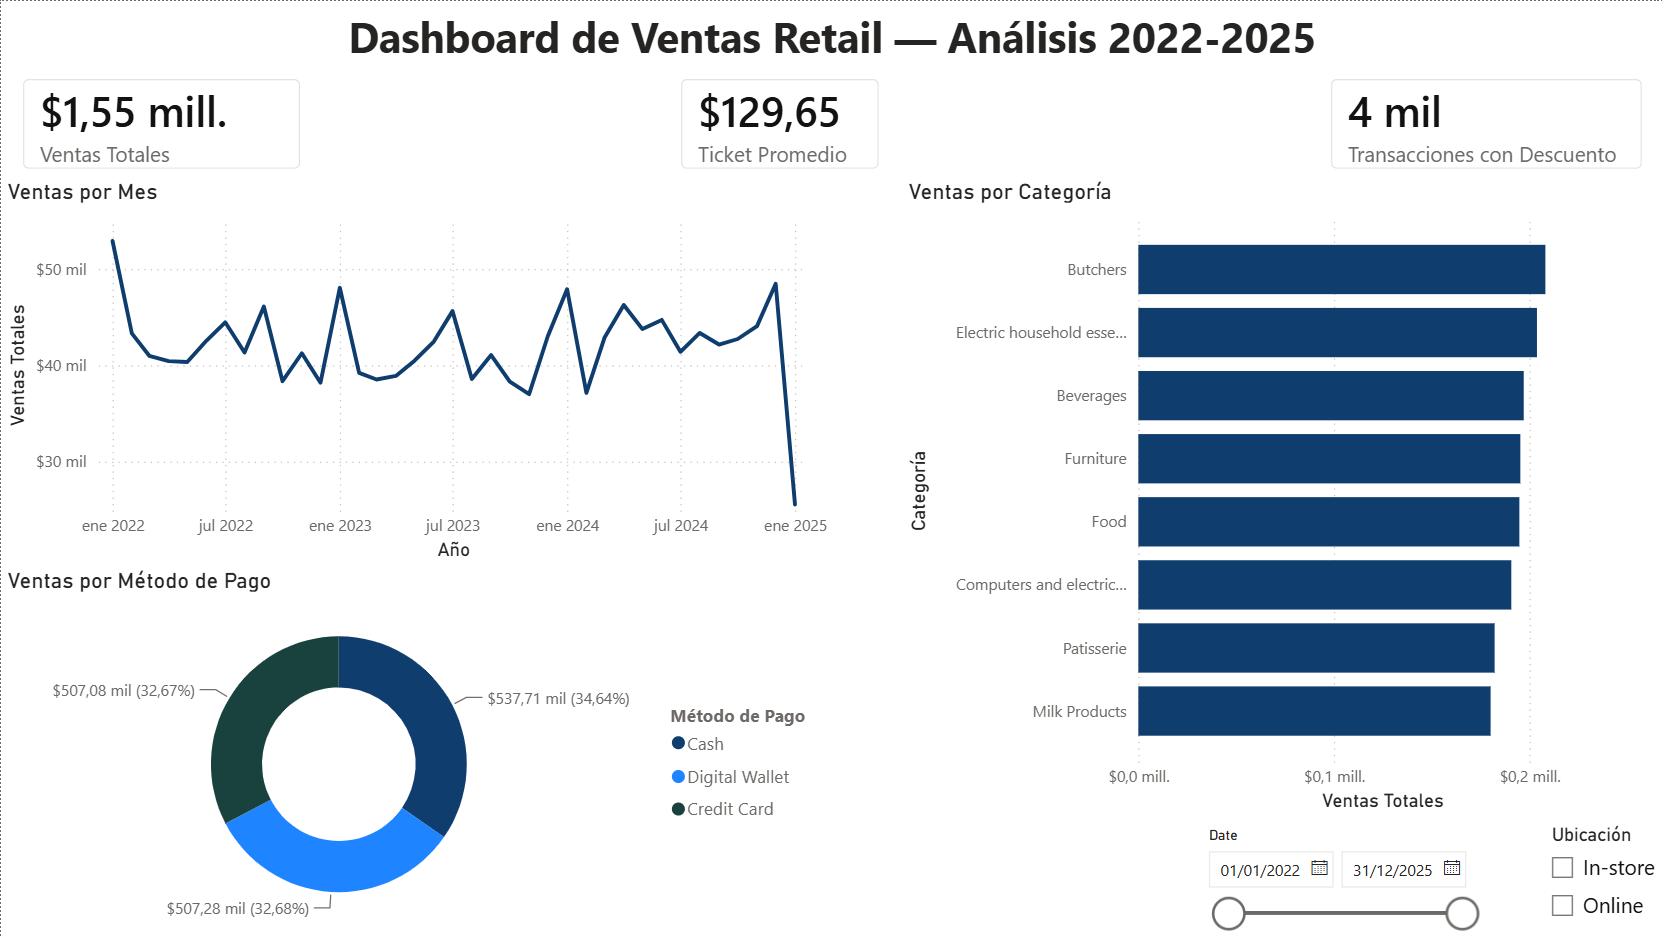

The dashboard page shown, as its layout file describes it:
{"tool":"powerbi","page":{"name":"Ventas de Retail","canvas":[1280,720],"ordinal":0},"visuals":[{"type":"cardVisual","fields":{"Data":["public clean_sales.Ticket Promedio"]},"box":[506.2,43.1,186.9,103.8],"z":0},{"type":"cardVisual","fields":{"Data":["public clean_sales.Ventas Totales"]},"box":[0,43.1,247.7,103.8],"z":1000},{"type":"lineChart","title":"Ventas por Mes","fields":{"Y":["public clean_sales.Ventas Totales"],"Category":["Calendario.Date.Variación.Jerarquía de fechas.Año","Calendario.Date.Variación.Jerarquía de fechas.Trimestre","Calendario.Date.Variación.Jerarquía de fechas.Mes"]},"box":[0,136.2,640.8,299.2],"z":3000},{"type":"cardVisual","fields":{"Data":["public clean_sales.Transacciones con Descuento"]},"box":[1006.2,43.1,273.8,103.8],"z":3500},{"type":"barChart","title":"Ventas por Categoría","fields":{"Category":["public clean_sales.category"],"Y":["public clean_sales.Ventas Totales"]},"box":[693.1,136.2,586.9,492.3],"z":4000},{"type":"donutChart","title":"Ventas por Método de Pago ","fields":{"Category":["public clean_sales.payment_method"],"Y":["public clean_sales.Ventas Totales"]},"box":[0,435.4,640.8,284.6],"z":5000},{"type":"slicer","fields":{"Values":["Calendario.Date"]},"box":[916.2,630,229.2,90],"z":6000},{"type":"slicer","fields":{"Values":["public clean_sales.location"]},"box":[1180,628.5,100,91.5],"z":7000},{"type":"textbox","box":[247.7,0,783.3,52.9],"z":8000}]}

Visuals, with their boxes in screenshot pixels (x1, y1, x2, y2), scaled from the page's 1280x720 canvas onto the 1662x937 screenshot:
cardVisual - public clean_sales.Ticket Promedio: (left=657, top=56, right=900, bottom=191)
cardVisual - public clean_sales.Ventas Totales: (left=0, top=56, right=322, bottom=191)
"Ventas por Mes" lineChart: (left=0, top=177, right=832, bottom=567)
cardVisual - public clean_sales.Transacciones con Descuento: (left=1306, top=56, right=1661, bottom=191)
"Ventas por Categoría" barChart: (left=900, top=177, right=1661, bottom=818)
"Ventas por Método de Pago " donutChart: (left=0, top=567, right=832, bottom=936)
slicer - Calendario.Date: (left=1190, top=820, right=1487, bottom=936)
slicer - public clean_sales.location: (left=1532, top=818, right=1661, bottom=936)
textbox: (left=322, top=0, right=1339, bottom=69)
